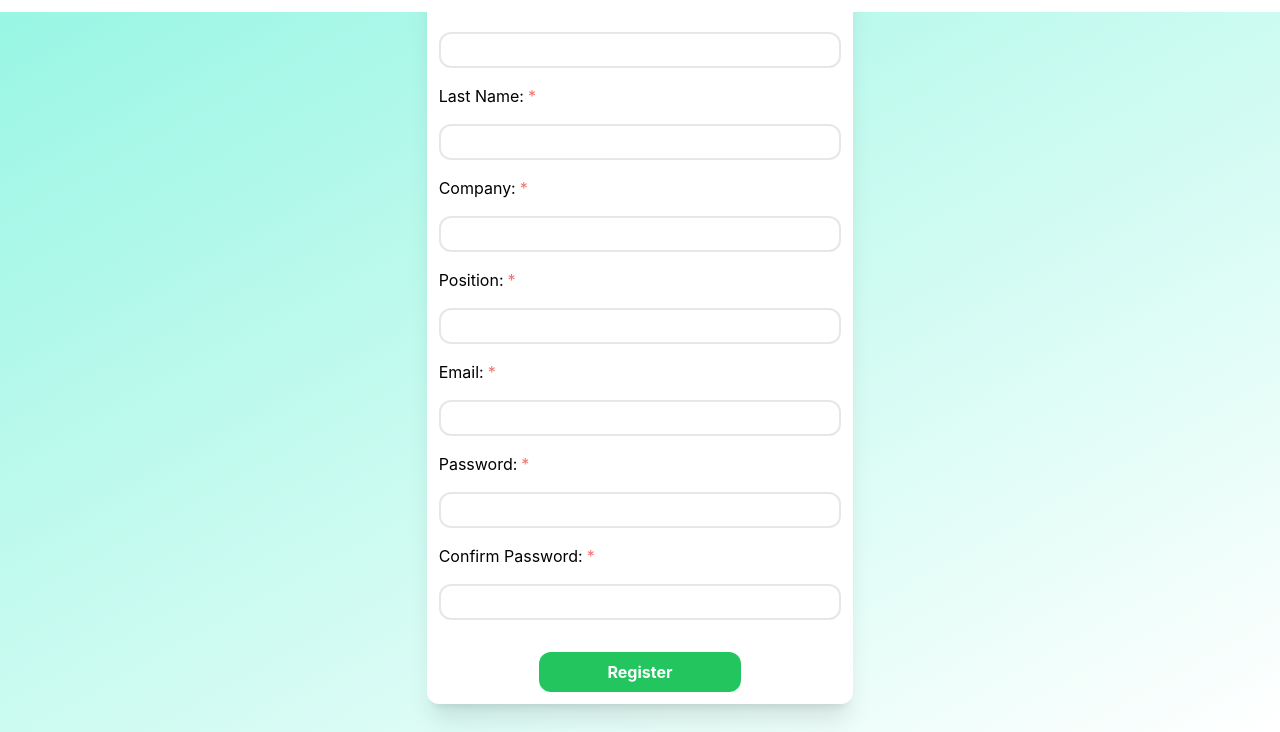
Register form unit tests › shows error if it fails password length validation
The image size is (1280, 732).
(page scrolled)
Step 1. Click the button → click(640, 672), box [539,652,741,692]
(page scrolled)
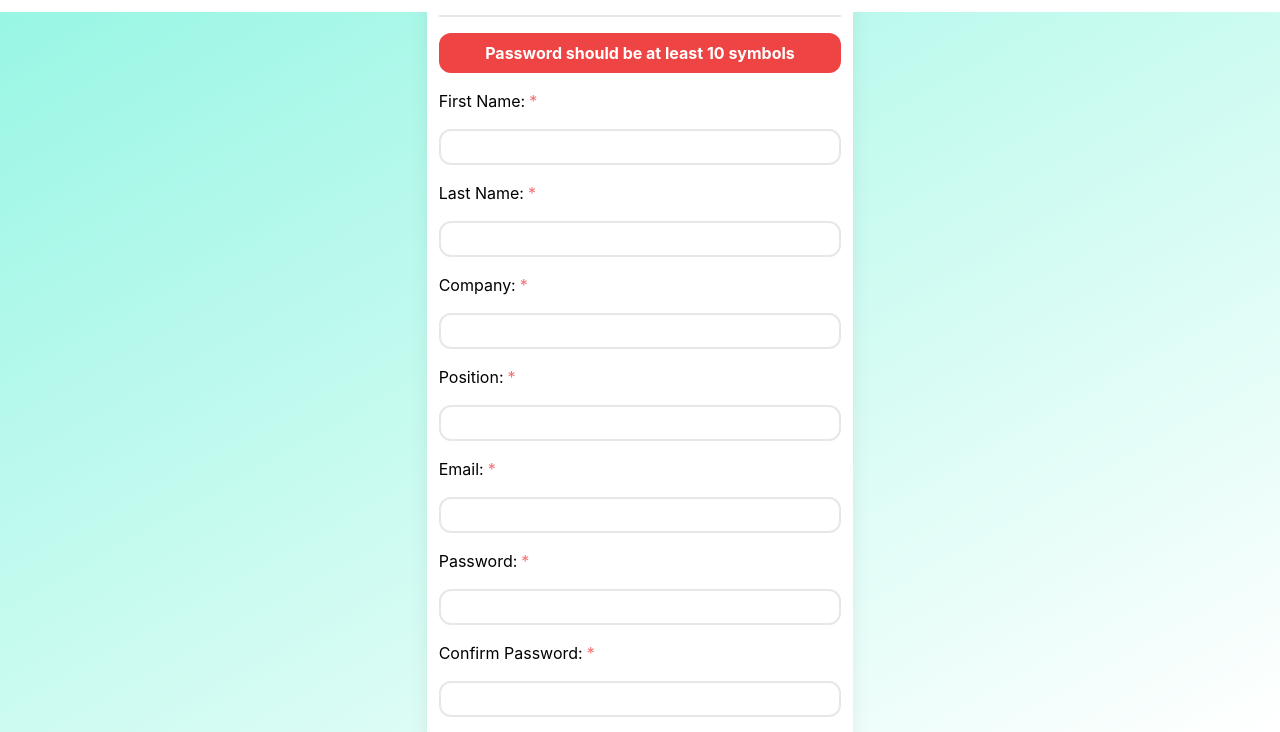
Expected: the text "Password should be at least 10 symbols" is shown, [439,33,841,73]
